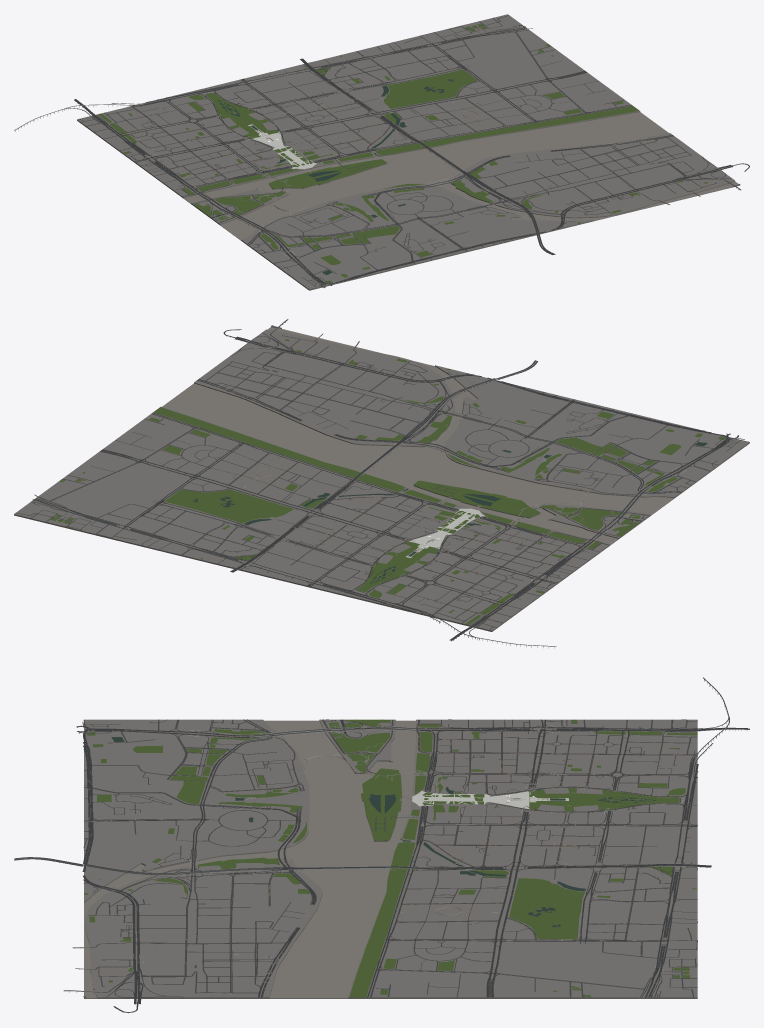
The model's file is ground.glb.
The picture shows the model from 3 angles, top to bottom: view 1: azimuth 30°, elevation 25°; view 2: azimuth 150°, elevation 25°; view 3: azimuth 270°, elevation 25°; orthographic projection. The views are drawn at different scales.
Parts seen in each view (by area): view 1: Ground | paving + kerbs + embankments, Green | lawns parks, Roads | arterial asphalt, Roads | local asphalt, Roads | footways, Roads | bridge structure, Water | ponds and creeks, Green | lawns gardens + pitches, Huacheng | plaza paving; view 2: Ground | paving + kerbs + embankments, Green | lawns parks, Roads | arterial asphalt, Roads | local asphalt, Roads | footways, Roads | bridge structure, Water | ponds and creeks, Huacheng | plaza paving, Green | lawns gardens + pitches; view 3: Ground | paving + kerbs + embankments, Green | lawns parks, Roads | arterial asphalt, Roads | local asphalt, Roads | footways, Roads | bridge structure, Water | ponds and creeks, Huacheng | plaza paving, Green | lawns gardens + pitches.
Boxes of the visible parts, x1,y1,x2,y2 form: Ground | paving + kerbs + embankments: [77, 14, 740, 290]; Green | lawns parks: [98, 23, 683, 282]; Roads | arterial asphalt: [14, 26, 749, 289]; Roads | local asphalt: [79, 15, 740, 287]; Roads | footways: [81, 23, 733, 276]; Roads | bridge structure: [14, 26, 749, 288]; Water | ponds and creeks: [218, 79, 454, 274]; Green | lawns gardens + pitches: [128, 44, 707, 277]; Huacheng | plaza paving: [252, 132, 316, 169]; Ground | paving + kerbs + embankments: [14, 326, 749, 631]; Green | lawns parks: [50, 350, 724, 624]; Roads | arterial asphalt: [33, 329, 748, 646]; Roads | local asphalt: [16, 319, 740, 630]; Roads | footways: [50, 329, 726, 627]; Roads | bridge structure: [33, 319, 744, 648]; Water | ponds and creeks: [193, 442, 707, 583]; Huacheng | plaza paving: [409, 508, 484, 548]; Green | lawns gardens + pitches: [59, 339, 702, 612]; Ground | paving + kerbs + embankments: [84, 719, 697, 998]; Green | lawns parks: [87, 719, 697, 997]; Roads | arterial asphalt: [14, 677, 749, 1012]; Roads | local asphalt: [63, 719, 697, 997]; Roads | footways: [84, 719, 697, 997]; Roads | bridge structure: [14, 677, 749, 1013]; Water | ponds and creeks: [111, 737, 655, 927]; Huacheng | plaza paving: [412, 791, 529, 808]; Green | lawns gardens + pitches: [84, 719, 696, 997].
Size of what is drawn, in the model's own units: 4545 by 28.92 by 4242.
